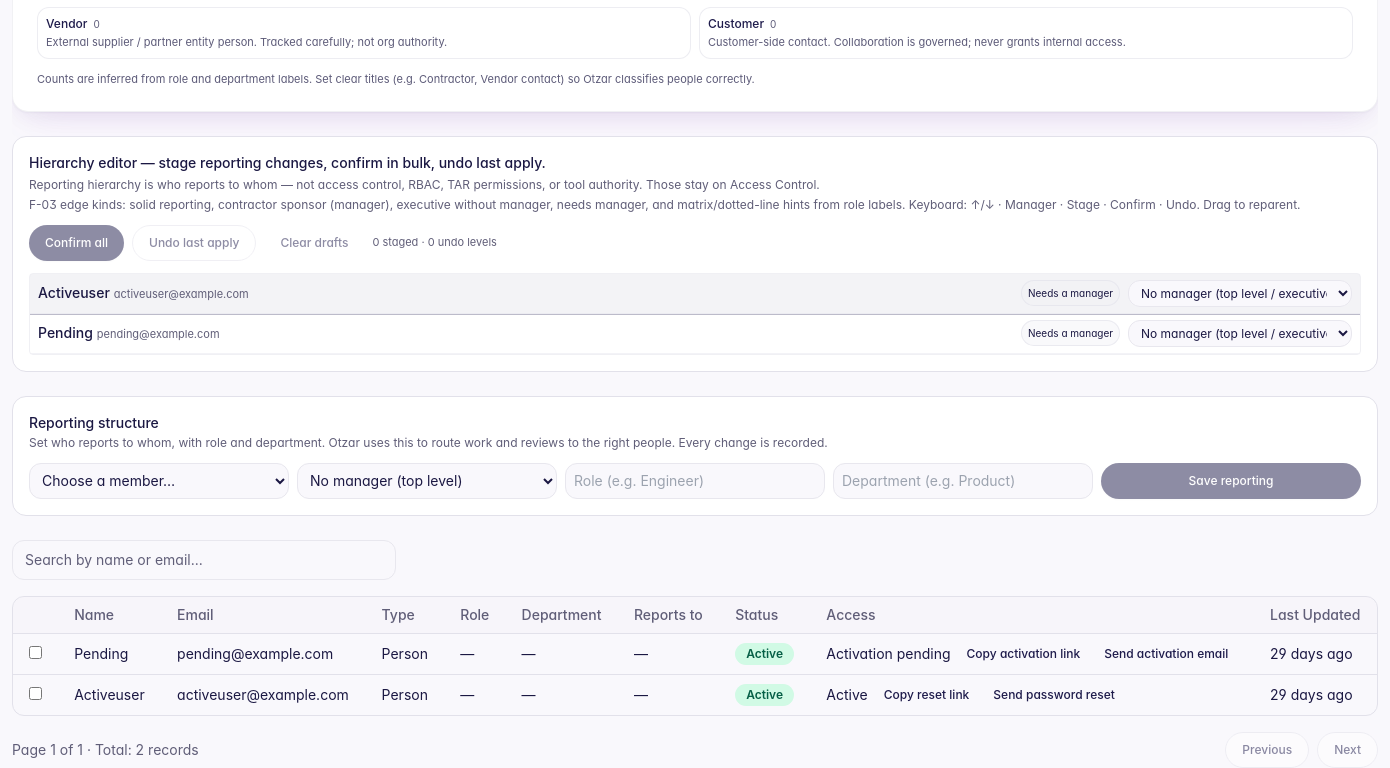
Test case: [ACT-EMAIL] Users row — send activation email › not-configured is honest and points at the copy-link fallback
(page scrolled)
Click the button with test id "users-send-activation-email" at (1166, 654), box left=1096, top=642, right=1236, bottom=666
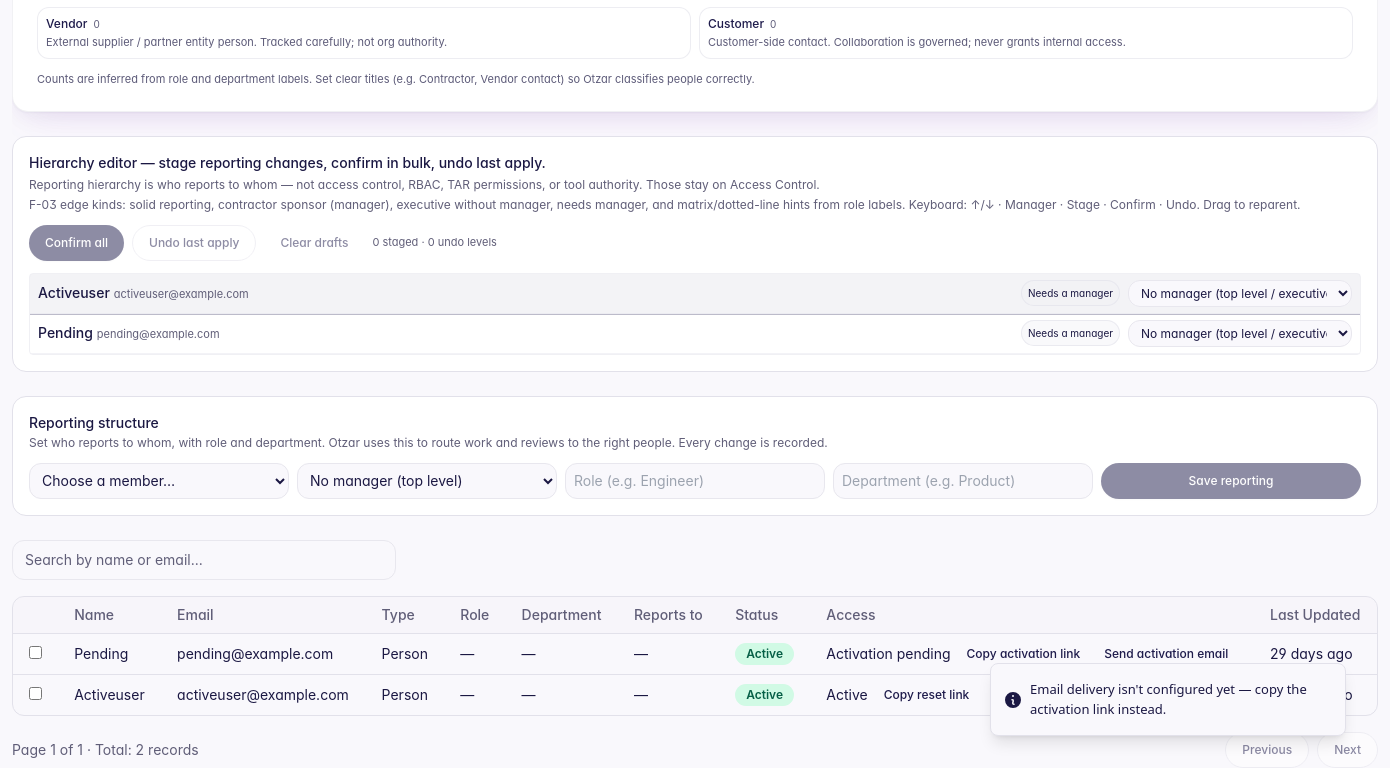
expect the text "isn't configured yet" shows "copy the activation link instead": met, box left=1030, top=680, right=1307, bottom=718
